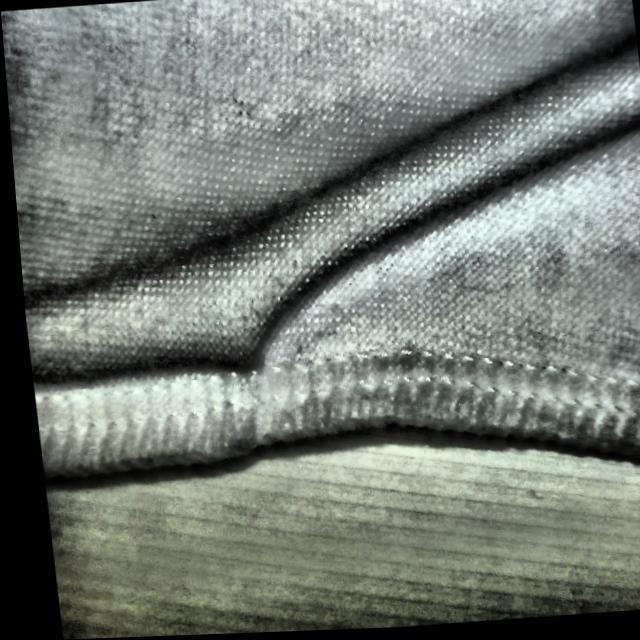seam: (110, 249, 331, 474)
